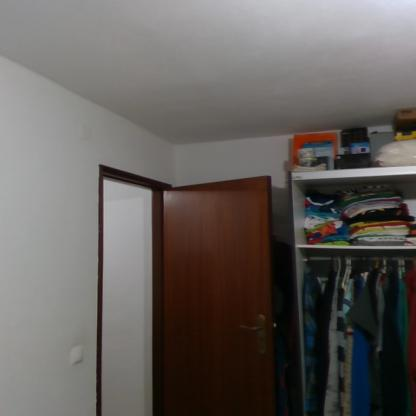open: (82, 148, 290, 414)
